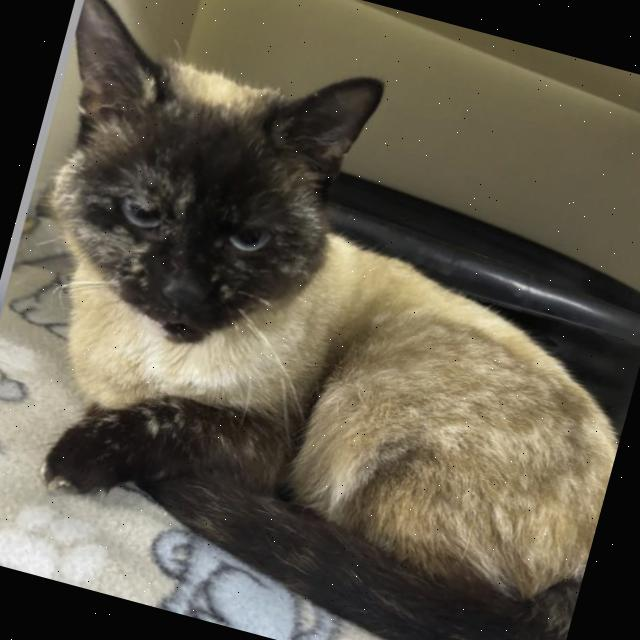siamese_cat: (0, 0, 429, 402)
